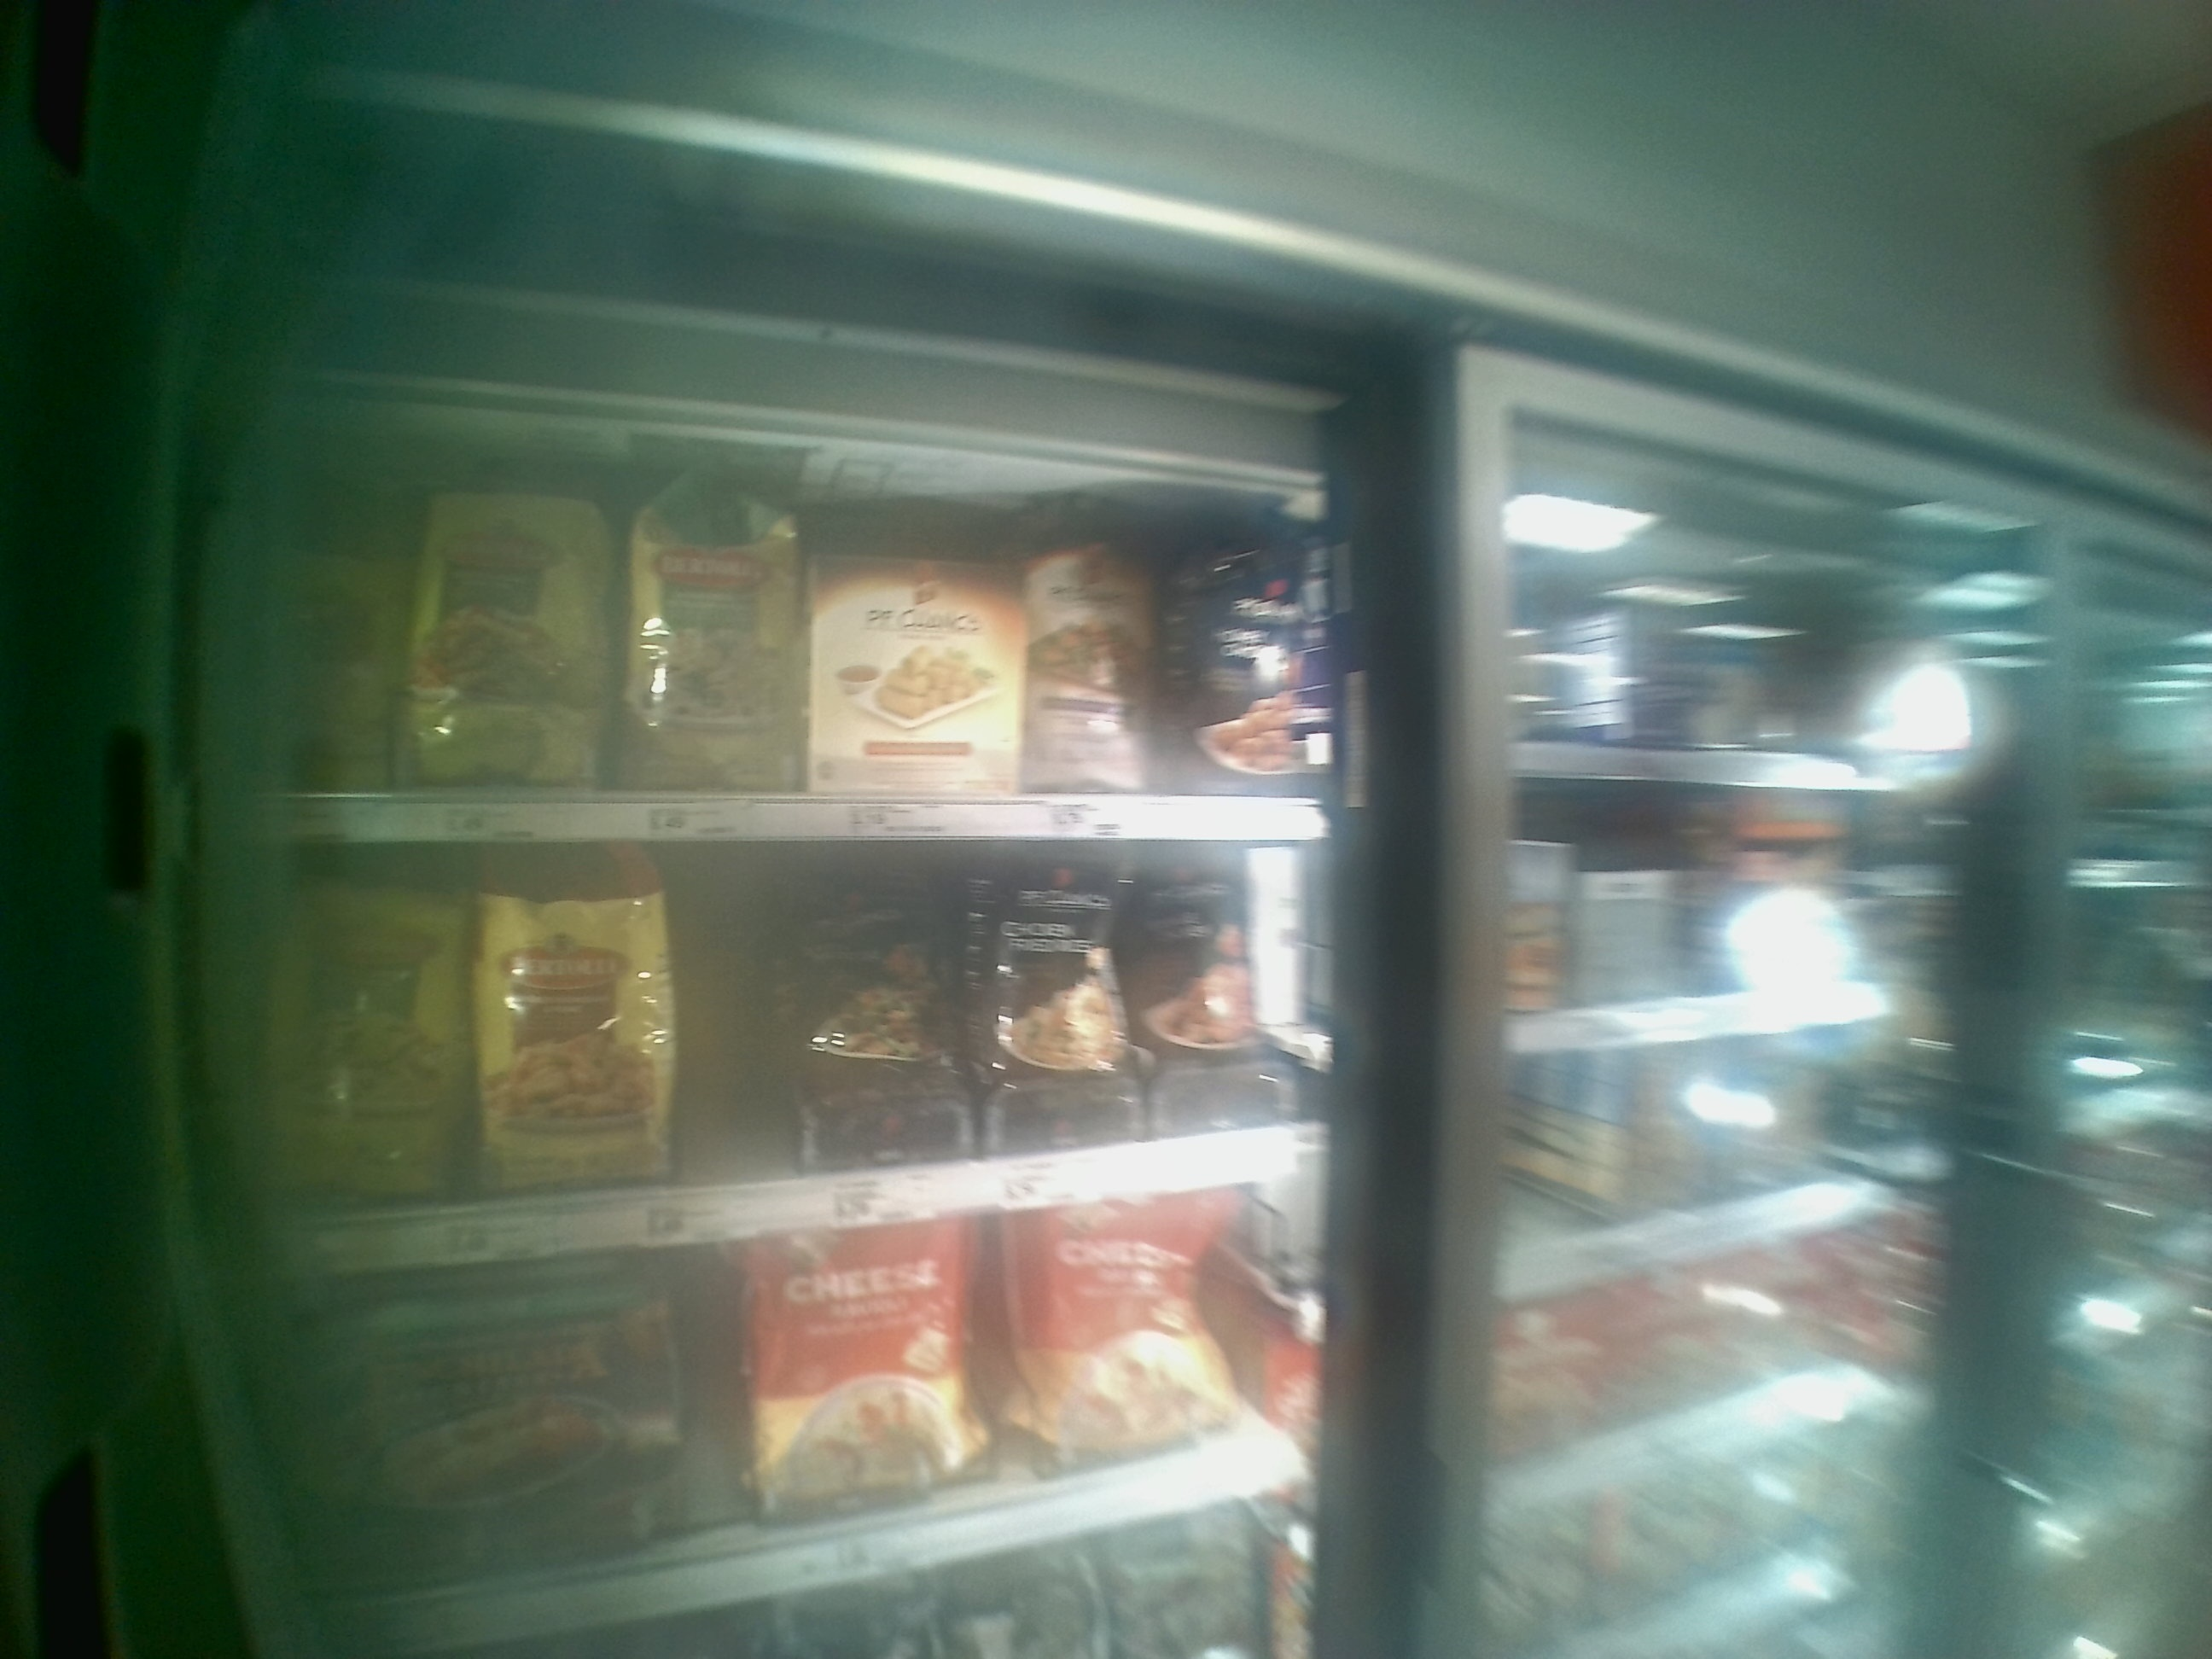shelf: (225, 829, 1331, 1190)
